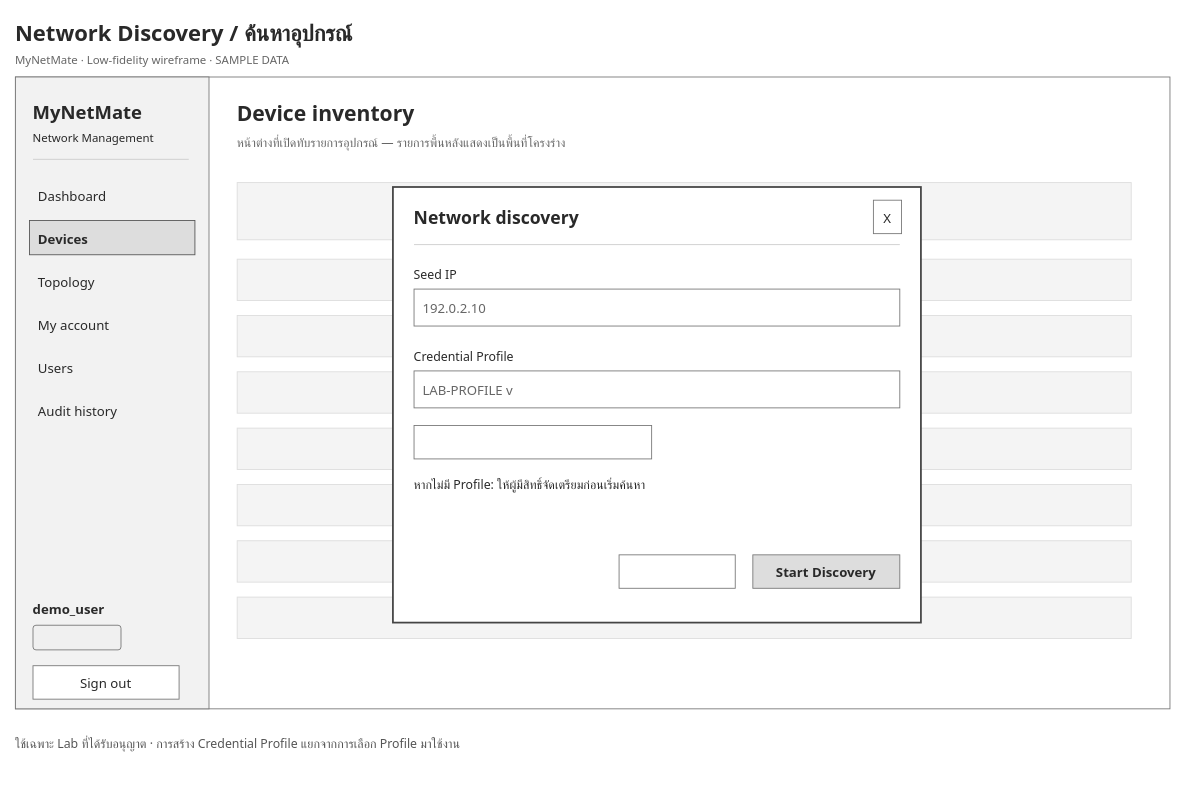
The diagram is 1185 pixels wide and 786 high, and some of its shapes have lost their labels. The centre of each missing label's shape, as x and y in pixels:
+ Add credential profile: pixel 532 442
Admin: pixel 76 637
Cancel: pixel 676 571
